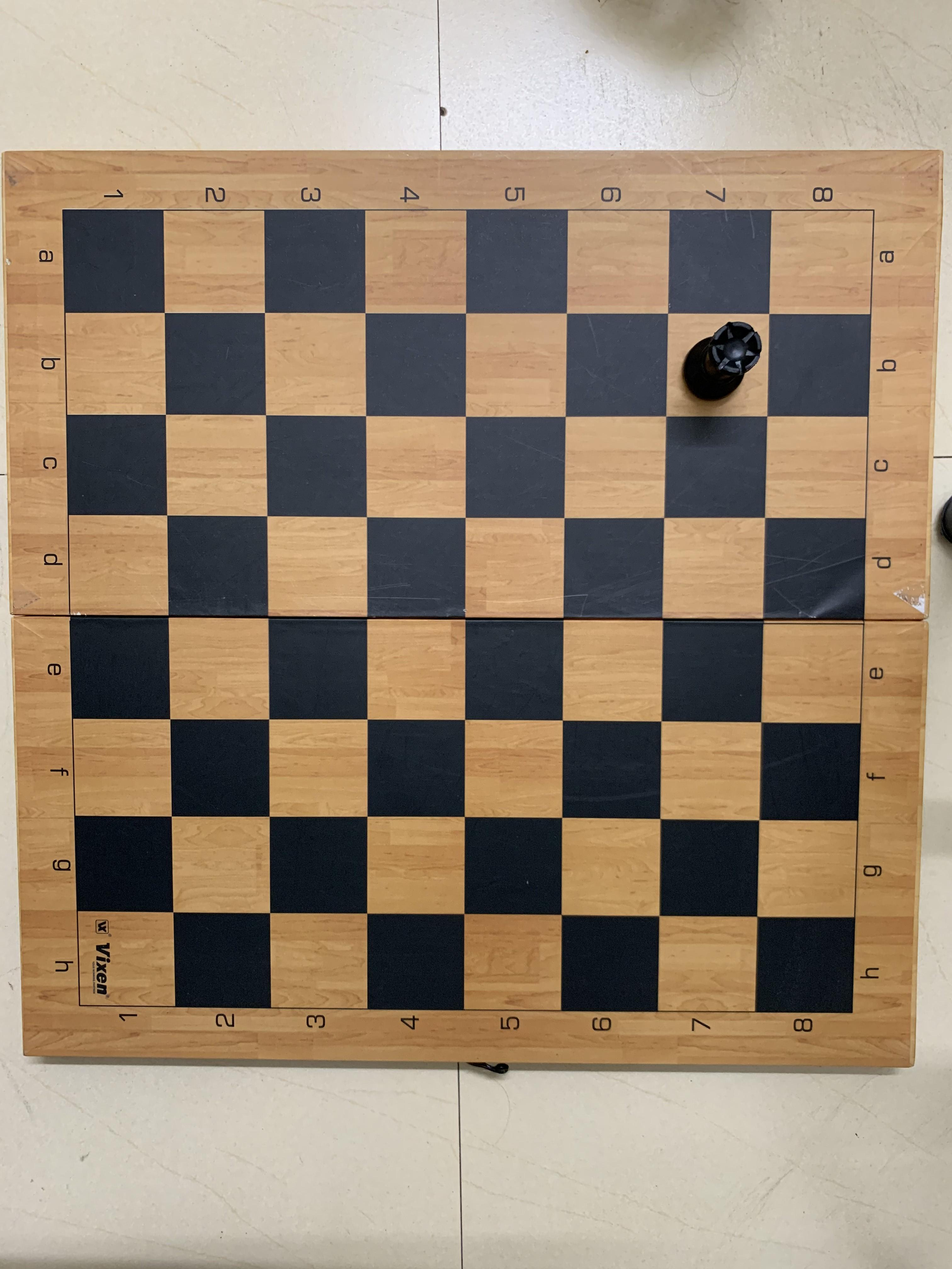black_rook: (667, 312, 769, 415)
